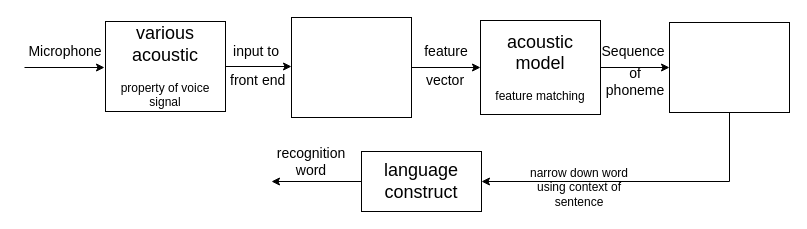
This 807x229 diagram has some shape labels left out. The shapes that lost their labels are listed below. From the top down, each one's centre as x and y in pixels, then its label:
At point (351, 67): "front end feature extraction".
At point (729, 67): "dictionary model word-phoneme pair".
